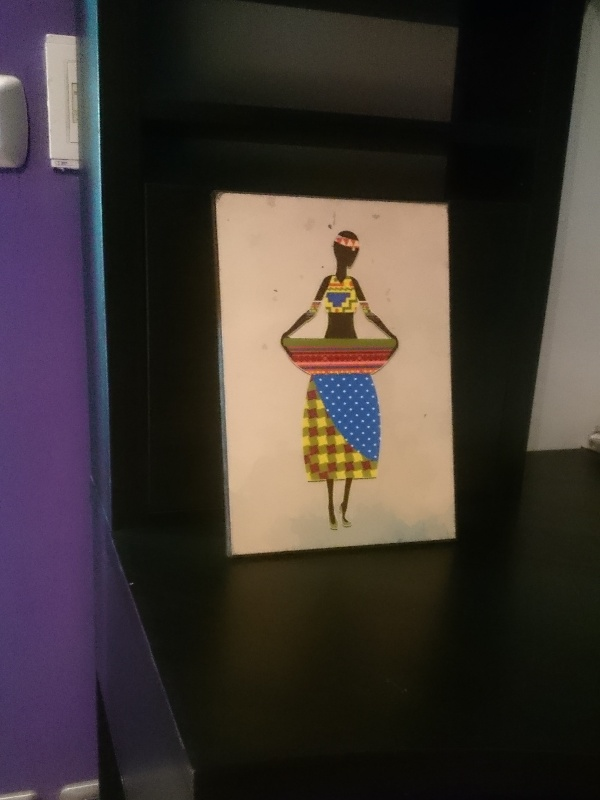my image: (224, 201, 450, 552)
